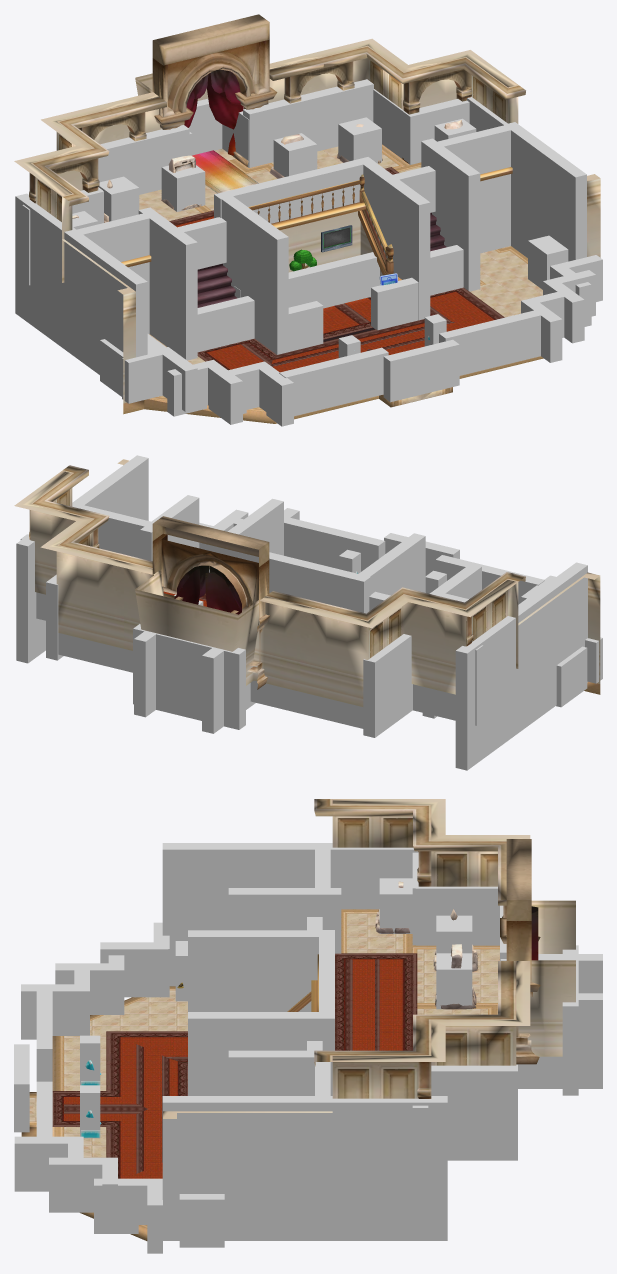
Rendered from Galery.opt.glb.
3 views of the same model, one above another, from view 1: azimuth 30°, elevation 25°; view 2: azimuth 150°, elevation 25°; view 3: azimuth 270°, elevation 25° (orthographic). The views are drawn at different scales.
Visible parts, largest first — view 1: Scene, COLL_All7, COLL_All6, COLL_All13, COLL_All15, COLL_All20, COLL_All12, COLL_All16, COLL_All14, COLL_All10, COLL_All2, COLL_All3 (+34 smaller); view 2: Scene, COLL_All7, COLL_All6, COLL_All19, COLL_All14, COLL_All23, COLL_All3, COLL_All13, COLL_All21, COLL_All24, COLL_All17, COLL_All25 (+11 smaller); view 3: Scene, COLL_All6, COLL_All7, COLL_All13, COLL_All22, COLL_All12, COLL_All15, COLL_All16, COLL_All23, COLL_All25, COLL_All47, COLL_All51 (+21 smaller).
Part boxes in pixels (bbox=[...]): Scene: bbox=[14, 14, 600, 423]; COLL_All7: bbox=[15, 193, 147, 374]; COLL_All6: bbox=[467, 97, 586, 261]; COLL_All13: bbox=[215, 191, 288, 354]; COLL_All15: bbox=[138, 207, 197, 360]; COLL_All20: bbox=[243, 79, 373, 167]; COLL_All12: bbox=[357, 157, 430, 320]; COLL_All16: bbox=[421, 138, 480, 291]; COLL_All14: bbox=[214, 158, 373, 223]; COLL_All10: bbox=[437, 125, 510, 253]; COLL_All2: bbox=[279, 347, 388, 416]; COLL_All3: bbox=[439, 310, 547, 375]; Scene: bbox=[14, 459, 600, 706]; COLL_All7: bbox=[455, 562, 587, 770]; COLL_All6: bbox=[16, 455, 148, 663]; COLL_All19: bbox=[133, 624, 245, 729]; COLL_All14: bbox=[210, 545, 370, 613]; COLL_All23: bbox=[363, 634, 412, 737]; COLL_All3: bbox=[284, 516, 385, 571]; COLL_All13: bbox=[352, 533, 425, 595]; COLL_All21: bbox=[250, 680, 363, 728]; COLL_All24: bbox=[202, 647, 255, 733]; COLL_All17: bbox=[413, 645, 483, 725]; COLL_All25: bbox=[134, 630, 156, 717]; Scene: bbox=[21, 799, 575, 1240]; COLL_All6: bbox=[162, 1096, 447, 1240]; COLL_All7: bbox=[162, 843, 418, 986]; COLL_All13: bbox=[188, 930, 334, 1011]; COLL_All22: bbox=[431, 1064, 517, 1160]; COLL_All12: bbox=[188, 1012, 334, 1095]; COLL_All15: bbox=[228, 888, 341, 953]; COLL_All16: bbox=[228, 1050, 332, 1095]; COLL_All23: bbox=[415, 882, 499, 945]; COLL_All25: bbox=[516, 993, 602, 1088]; COLL_All47: bbox=[100, 942, 168, 997]; COLL_All51: bbox=[21, 984, 88, 1039].
Bounding box in the file's own units: 242 × 109 × 219.
Materials: 33 (33 with a texture image).
